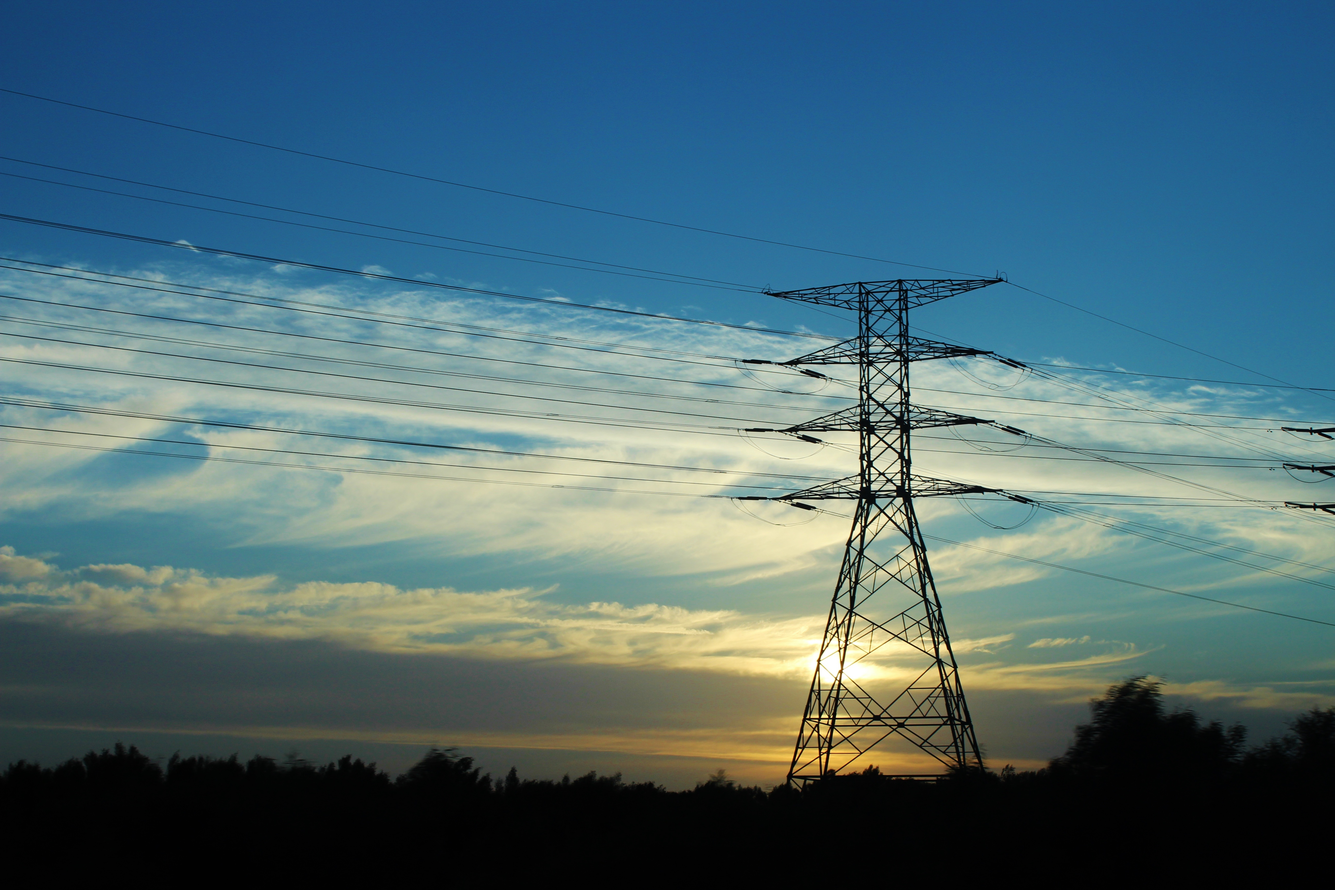insulator: (1002, 489, 1040, 510), (795, 366, 832, 384), (791, 432, 827, 447), (999, 421, 1026, 439), (998, 355, 1024, 373), (791, 500, 822, 513)
